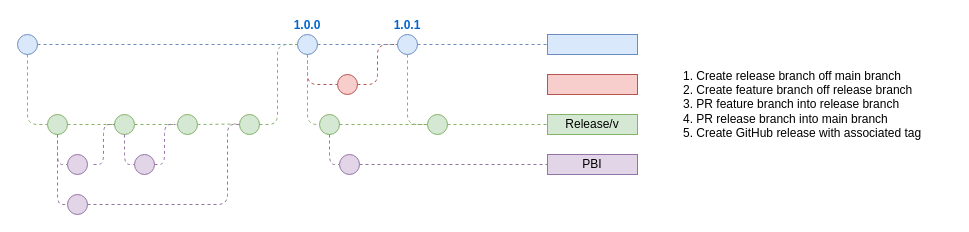
Some shapes in this 969 by 232 pixel diagram are drawn without their labels. The centre of each missing label's shape, as x and y in pixels:
"Hotfix" belongs at pixel 592 84.
"Main" belongs at pixel 592 44.
